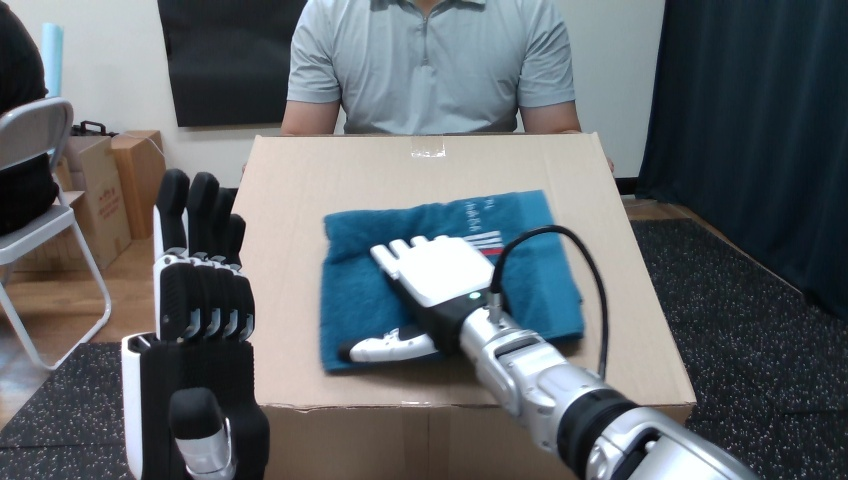left robot hand: (340, 225, 755, 479), (122, 169, 268, 478), (501, 231, 602, 373)
